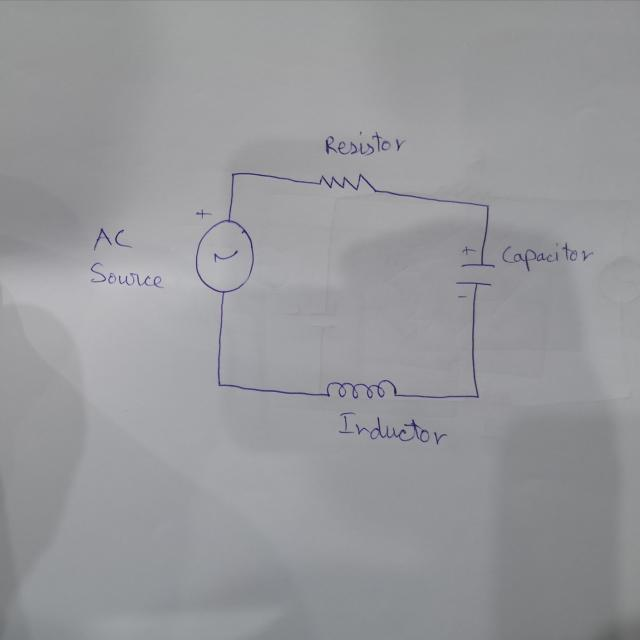capacitor: (452, 244, 494, 299)
inductor: (325, 376, 399, 401)
junction: (210, 373, 232, 392), (227, 166, 241, 182), (481, 200, 493, 212), (470, 390, 482, 401)
resistor: (314, 170, 376, 195)
source: (193, 205, 260, 296)
text: (336, 409, 449, 446), (499, 239, 594, 272), (322, 128, 408, 158), (87, 260, 166, 292), (91, 225, 135, 254)
